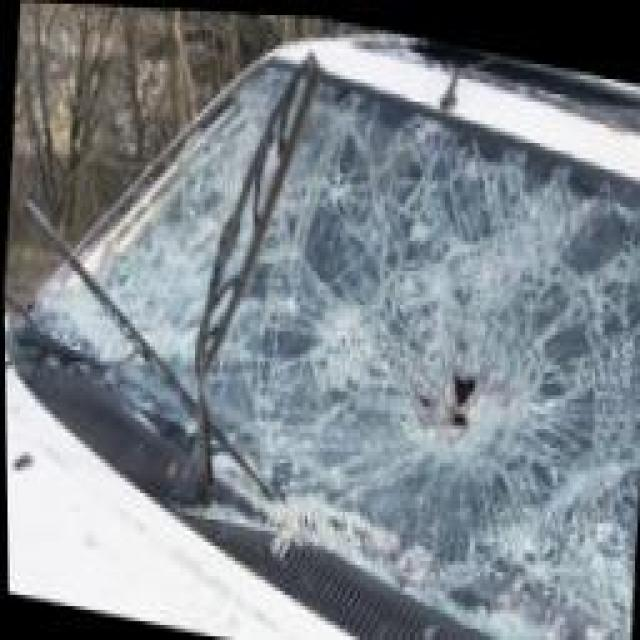Windshield: (68, 41, 640, 597)
